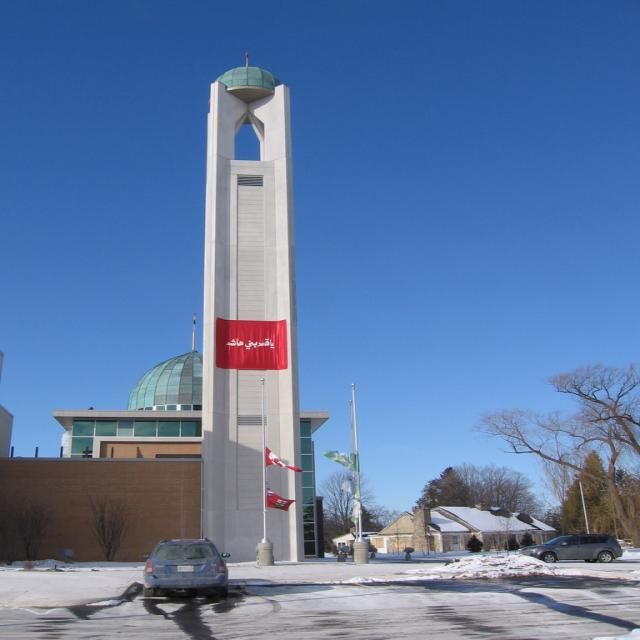car: (124, 540, 225, 601), (527, 533, 626, 561)
